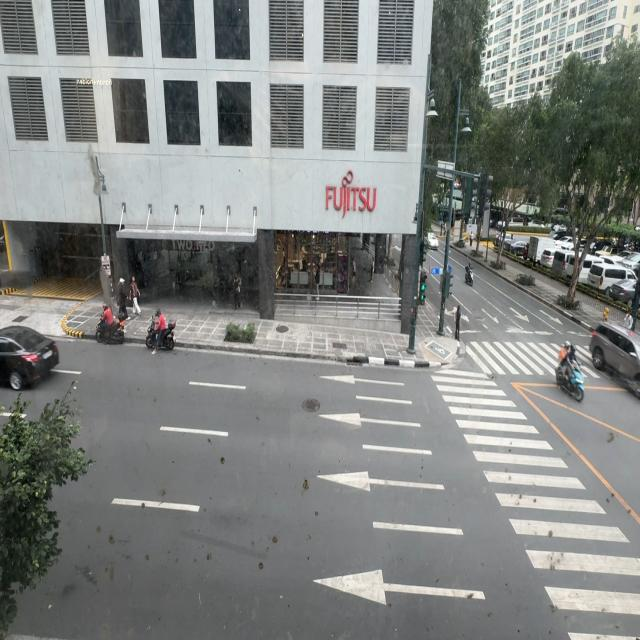waiting: (623, 303, 637, 336), (454, 304, 461, 342)
